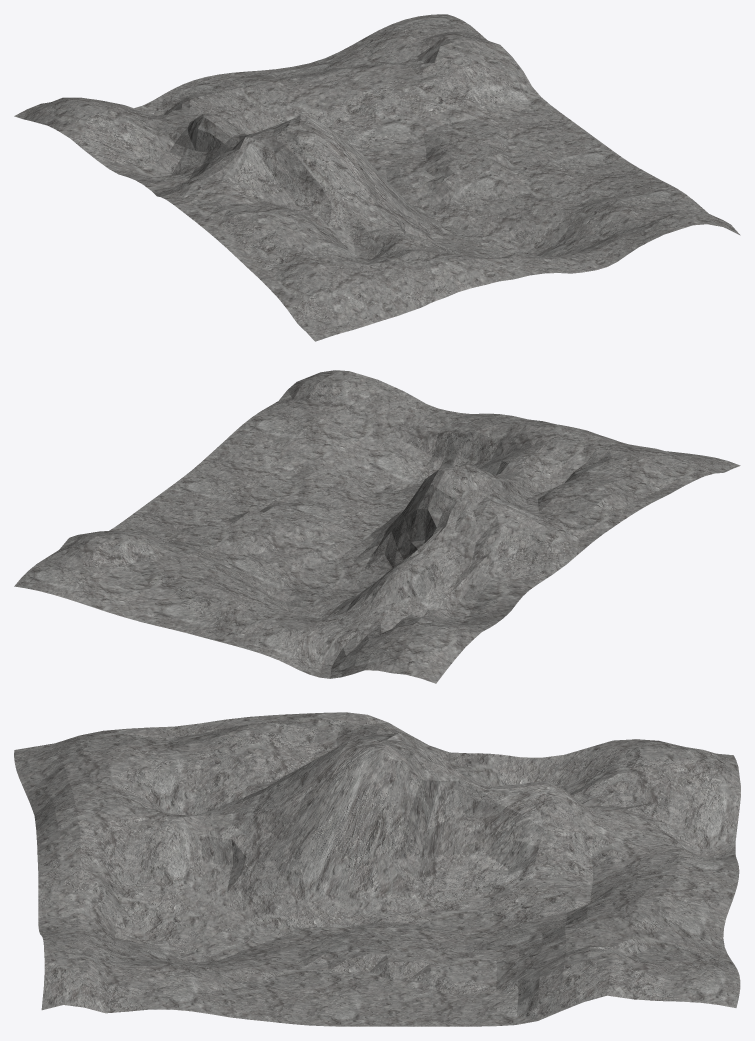
Rendered from world6.obj.
3 renders of one model, top to bottom at view 1: azimuth 30°, elevation 25°; view 2: azimuth 150°, elevation 25°; view 3: azimuth 270°, elevation 25°, orthographic. The views are drawn at different scales.
Parts seen in each view (by area): view 1: terrain; view 2: terrain; view 3: terrain.
Part boxes in pixels (x1=…): terrain: x1=14, y1=14, x2=740, y2=341; terrain: x1=14, y1=370, x2=740, y2=683; terrain: x1=14, y1=712, x2=740, y2=1026.
Bounding box in the file's own units: 78.69 × 19.48 × 95.84.
